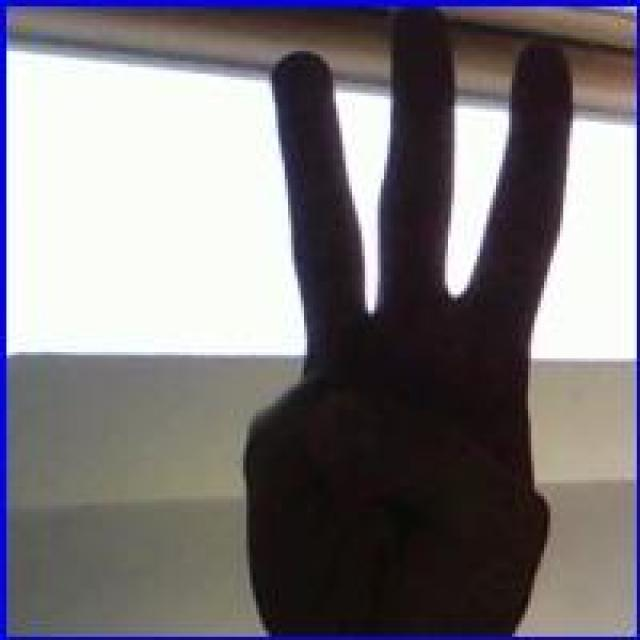W: (225, 6, 578, 634)
